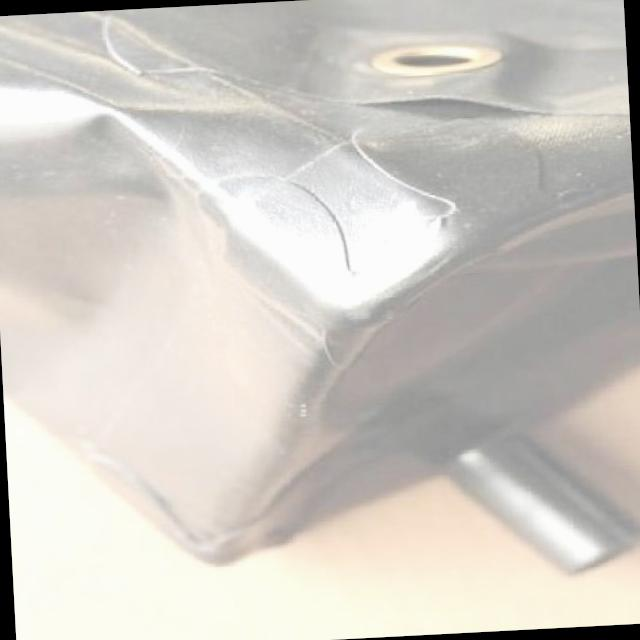crack: (310, 194, 370, 300)
